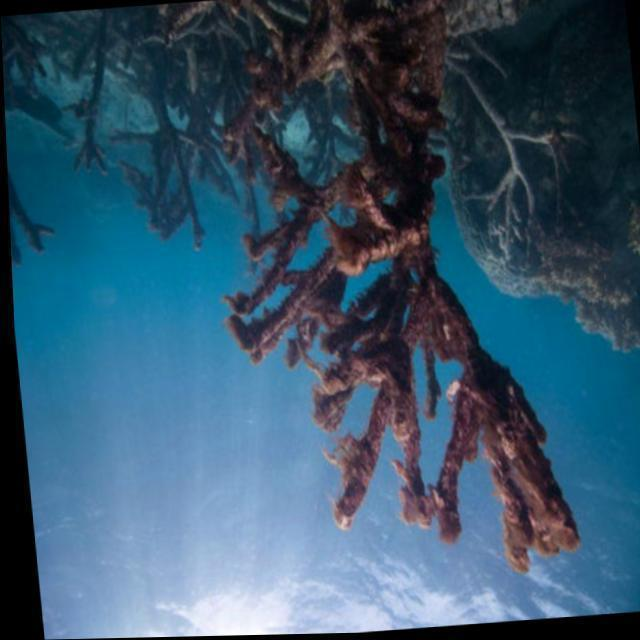Dead Coral: (196, 7, 585, 612)
